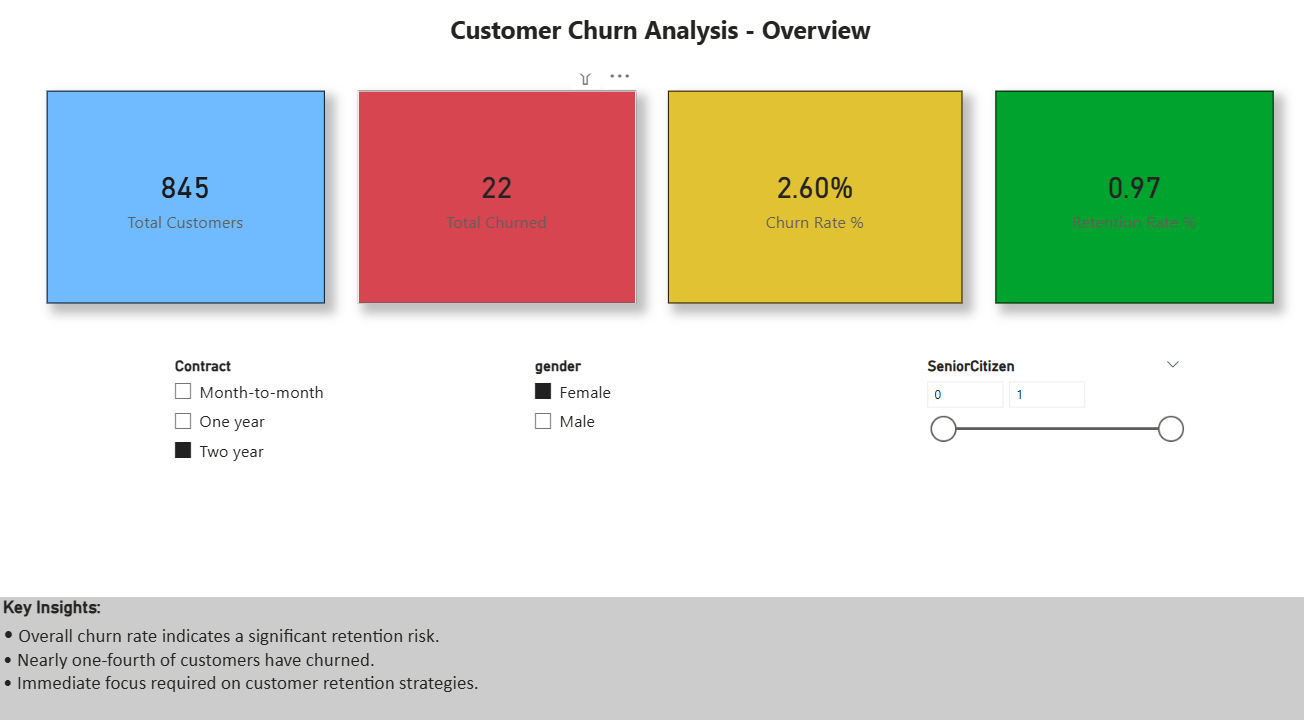

What the dashboard file says about the page in this screenshot:
{"tool":"powerbi","page":{"name":"Overview","canvas":[1280,720],"ordinal":0},"visuals":[{"type":"card","fields":{"Values":["Raw_data.Total Customers"]},"box":[48,96,272,208],"z":0},{"type":"card","fields":{"Values":["Raw_data.Total Churned"]},"box":[352,96,272,208],"z":1},{"type":"card","fields":{"Values":["Raw_data.Retention Rate %"]},"box":[976,96,272,208],"z":2},{"type":"card","fields":{"Values":["Raw_data.Churn Rate %"]},"box":[656,96,288,208],"z":3},{"type":"slicer","fields":{"Values":["Raw_data.Contract"]},"box":[160,352,272,192],"z":4},{"type":"slicer","fields":{"Values":["Raw_data.gender"]},"box":[512,352,288,224],"z":5},{"type":"slicer","fields":{"Values":["Raw_data.SeniorCitizen"]},"box":[896,352,272,208],"z":6},{"type":"textbox","title":"Key Insights:","box":[0,592,1280,128],"z":7},{"type":"textbox","box":[16,16,1264,64],"z":8}]}

Visuals, with their boxes in screenshot pixels (x1, y1, x2, y2), scaled from the page's 1280x720 canvas onto the 1304x720 screenshot:
card - Raw_data.Total Customers: 49,96,326,304
card - Raw_data.Total Churned: 359,96,636,304
card - Raw_data.Retention Rate %: 994,96,1271,304
card - Raw_data.Churn Rate %: 668,96,962,304
slicer - Raw_data.Contract: 163,352,440,544
slicer - Raw_data.gender: 522,352,815,576
slicer - Raw_data.SeniorCitizen: 913,352,1190,560
"Key Insights:" textbox: 0,592,1303,719
textbox: 16,16,1303,80
